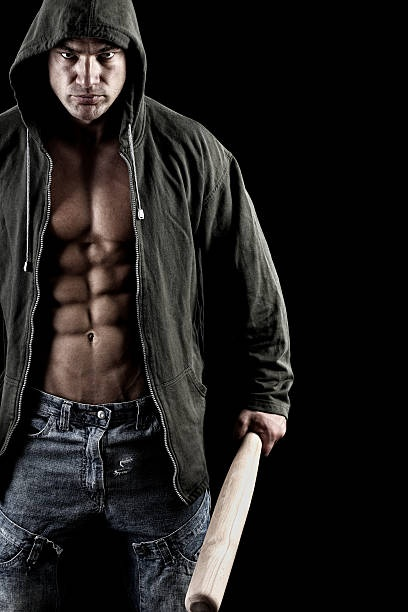bita: (175, 400, 284, 606)
